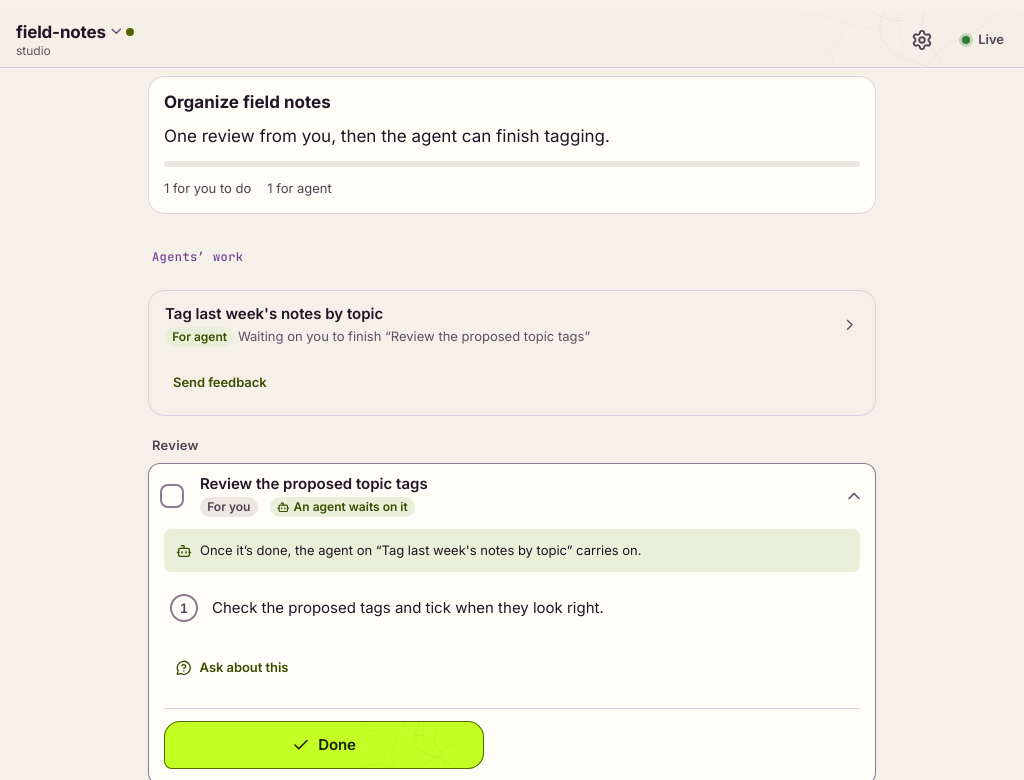
drops an agent waiting row and badge immediately on an optimistic completed prerequisite
The width and height of the screenshot is (1024, 780).
Expected: the text "Waiting on you to finish “Review the proposed topic tags”" is shown, [238,328,590,344]
Step 1. Click the button "Done" → (324, 745), box [164,721,484,769]
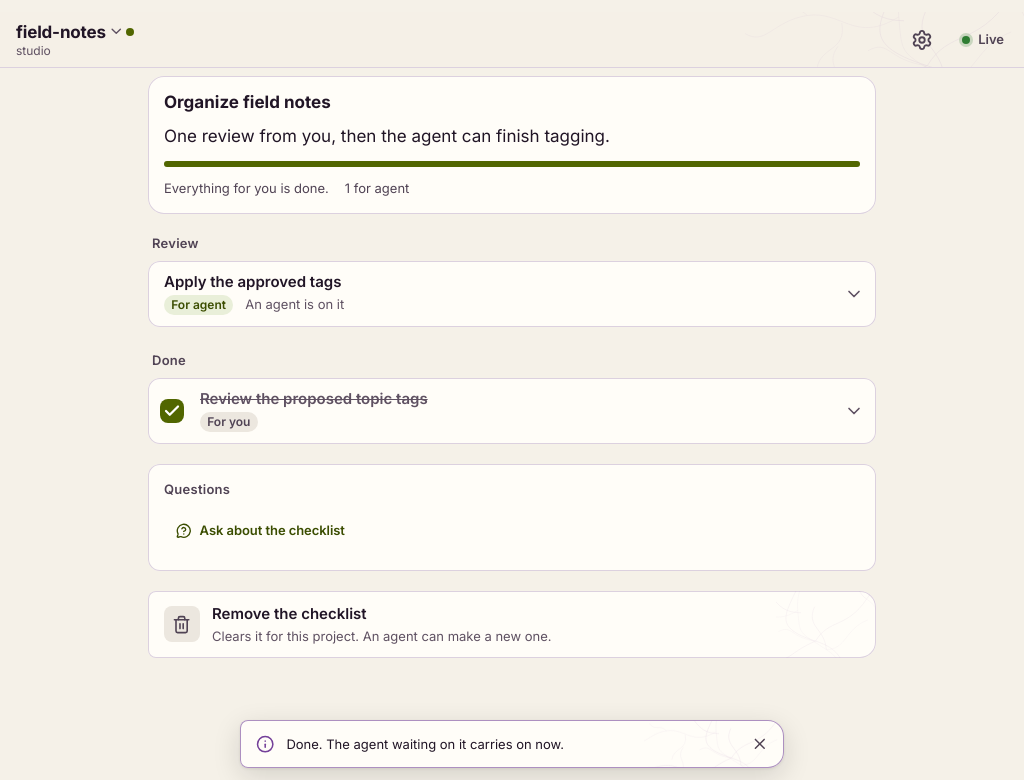
Now the button "Waiting on you to finish “Review the proposed topic tags”" is gone
